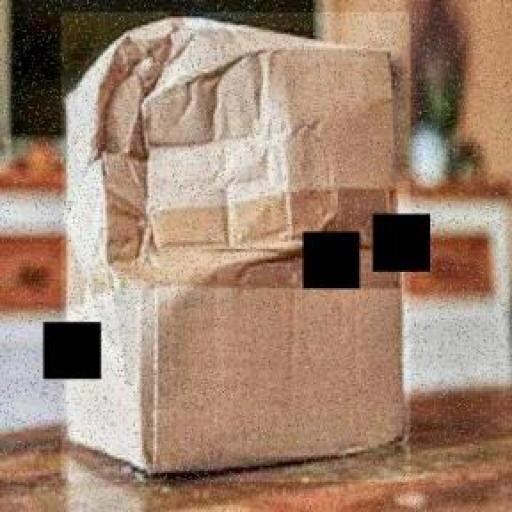box: (61, 12, 410, 482)
